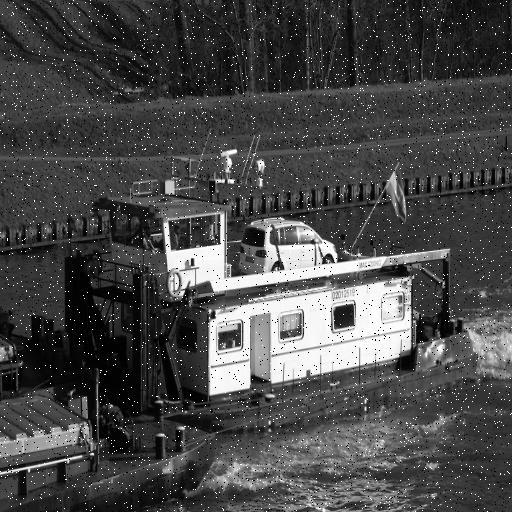tugboat: (44, 145, 483, 449)
